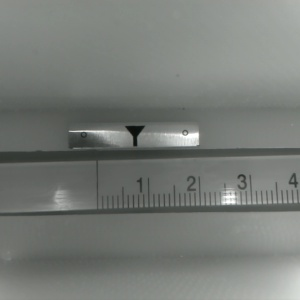1: (135, 177, 142, 193)
2: (185, 175, 196, 191)
3: (237, 174, 247, 190)
4: (287, 173, 298, 188)
finger: (123, 125, 144, 146)
